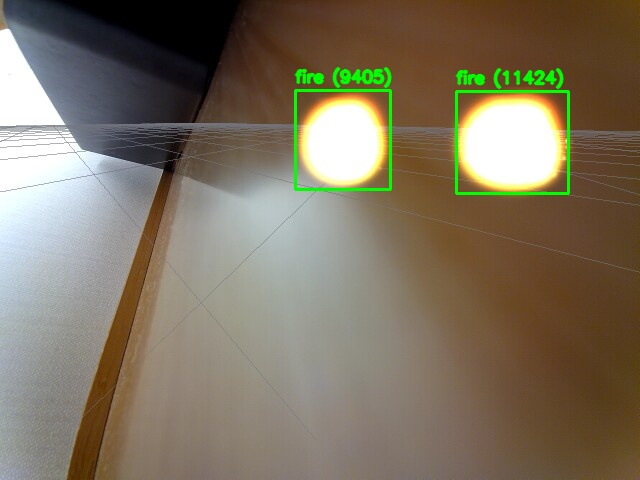fire: (456, 91, 568, 193), (295, 90, 390, 189)
